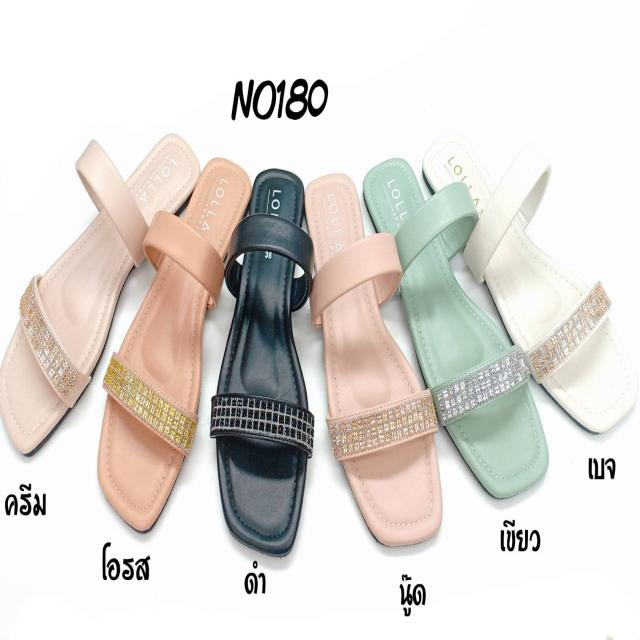bej: (421, 132, 640, 434)
black: (207, 145, 315, 560)
cream: (0, 41, 204, 455)
green: (359, 137, 551, 514)
nood: (298, 146, 436, 552)
orot: (78, 135, 248, 540)
